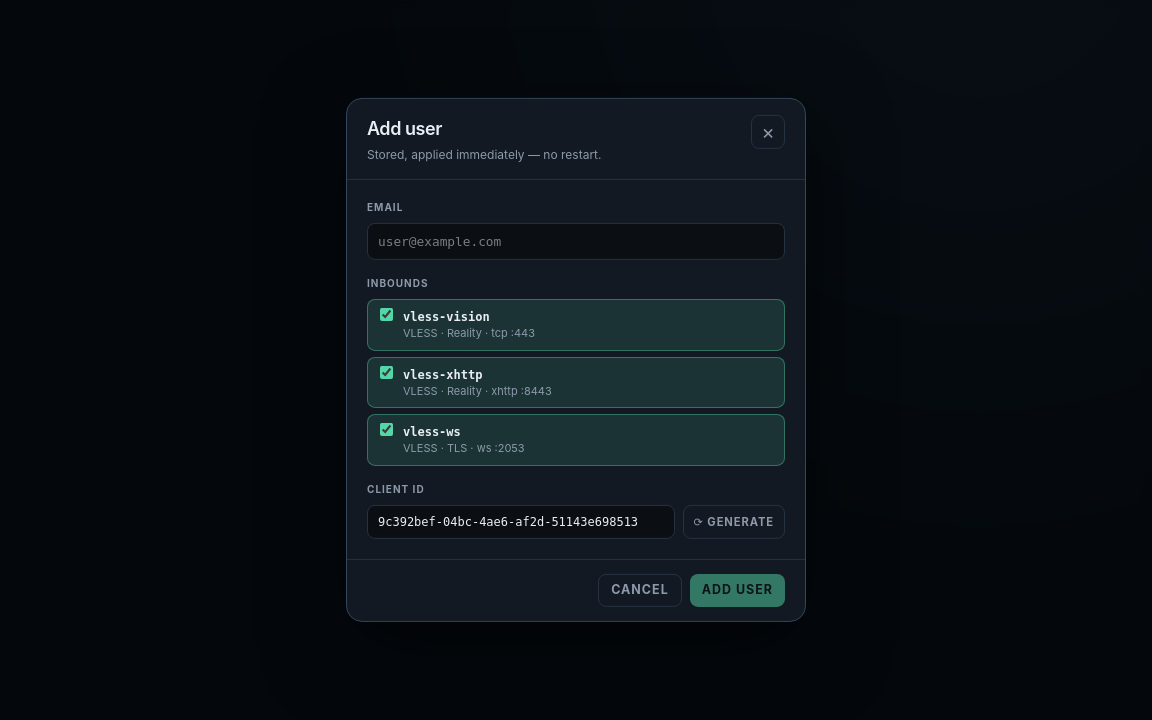
Test: add user dialog › shows the failure banner when the store succeeded but the apply failed
This screenshot has width=1152, height=720.
Type "iris@example.com" into the field labelled "Email" at [576, 242], box [367, 223, 785, 260]
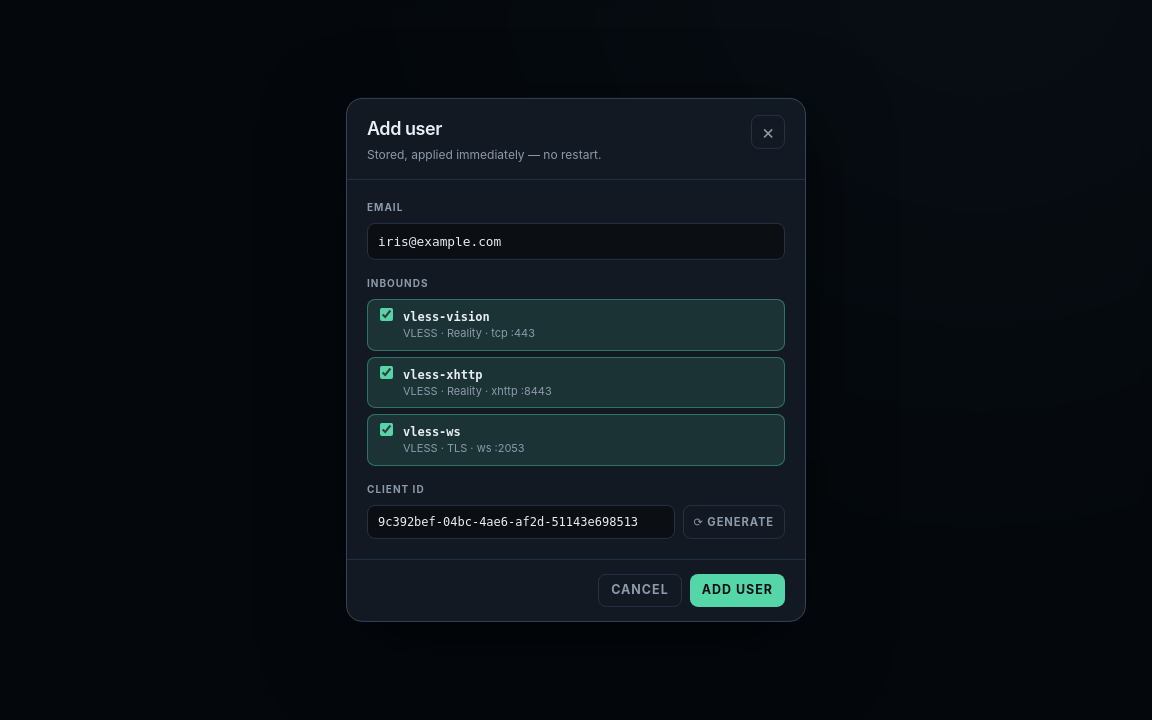
Click the button "Add user" at [737, 591], box [690, 574, 785, 607]
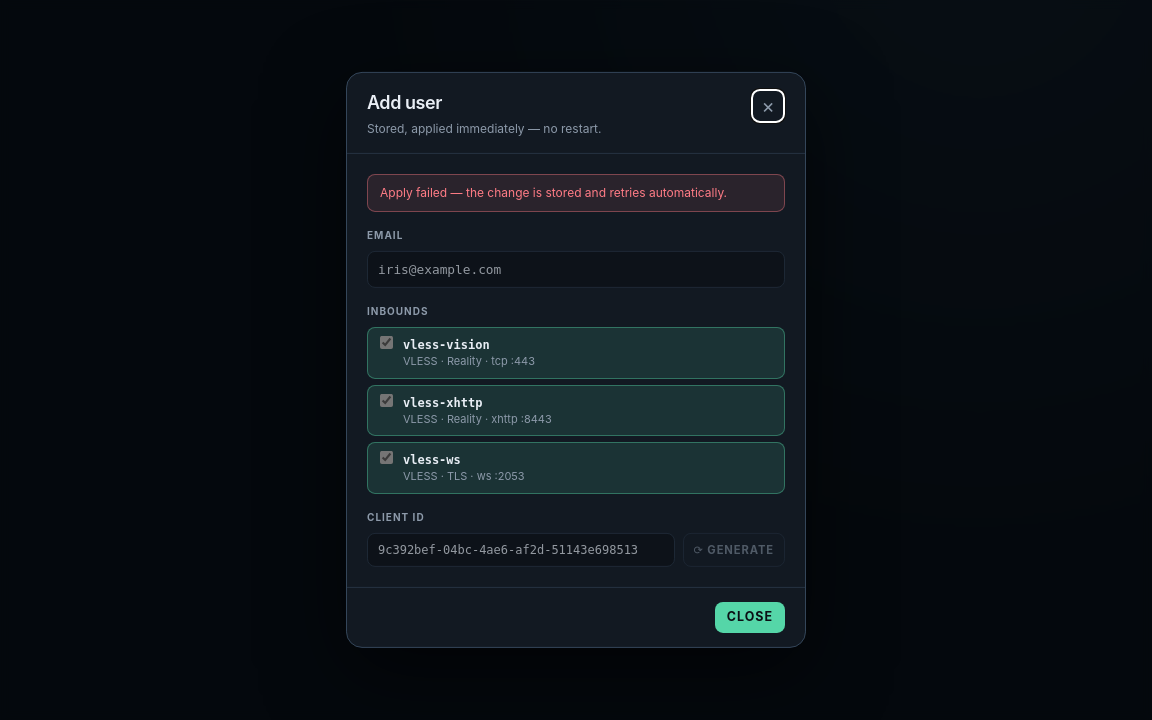
Expected: the message reads "Apply failed — the change is stored and retries automatically.", [380, 185, 727, 200]
